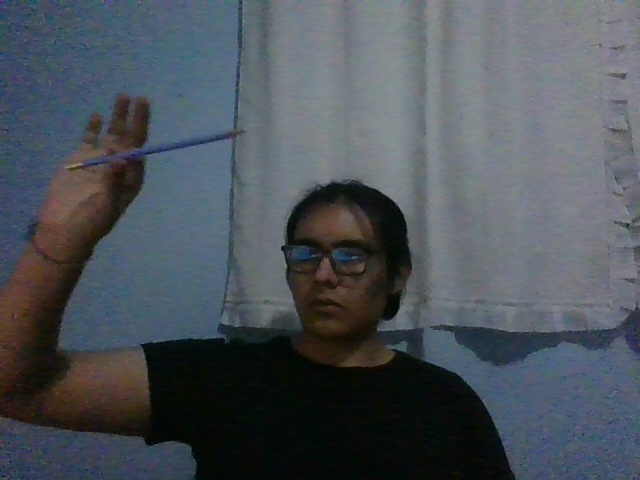lapiz: (63, 130, 246, 171)
